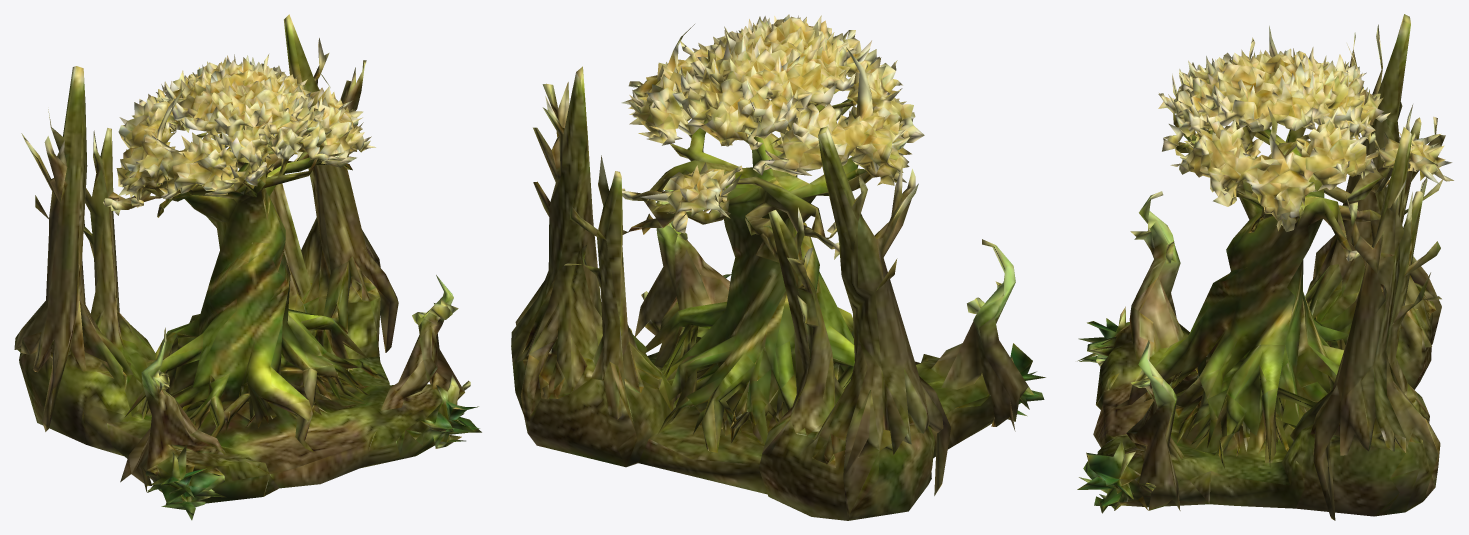
Rendered from mini_gd06.glb.
The picture shows the model from 3 angles, left to right: view 1: azimuth 30°, elevation 25°; view 2: azimuth 150°, elevation 25°; view 3: azimuth 270°, elevation 25°; orthographic projection. The views are drawn at different scales.
Visible parts, largest first — view 1: Mesh_0; view 2: Mesh_0; view 3: Mesh_0.
Part boxes in pixels (x1,y1,x2,y2): Mesh_0: (14,14,481,520); Mesh_0: (511,14,1045,520); Mesh_0: (1077,14,1453,520).
Size of the model in its own units: 1.86 by 1.77 by 1.56.
1 material, 1 textured.
